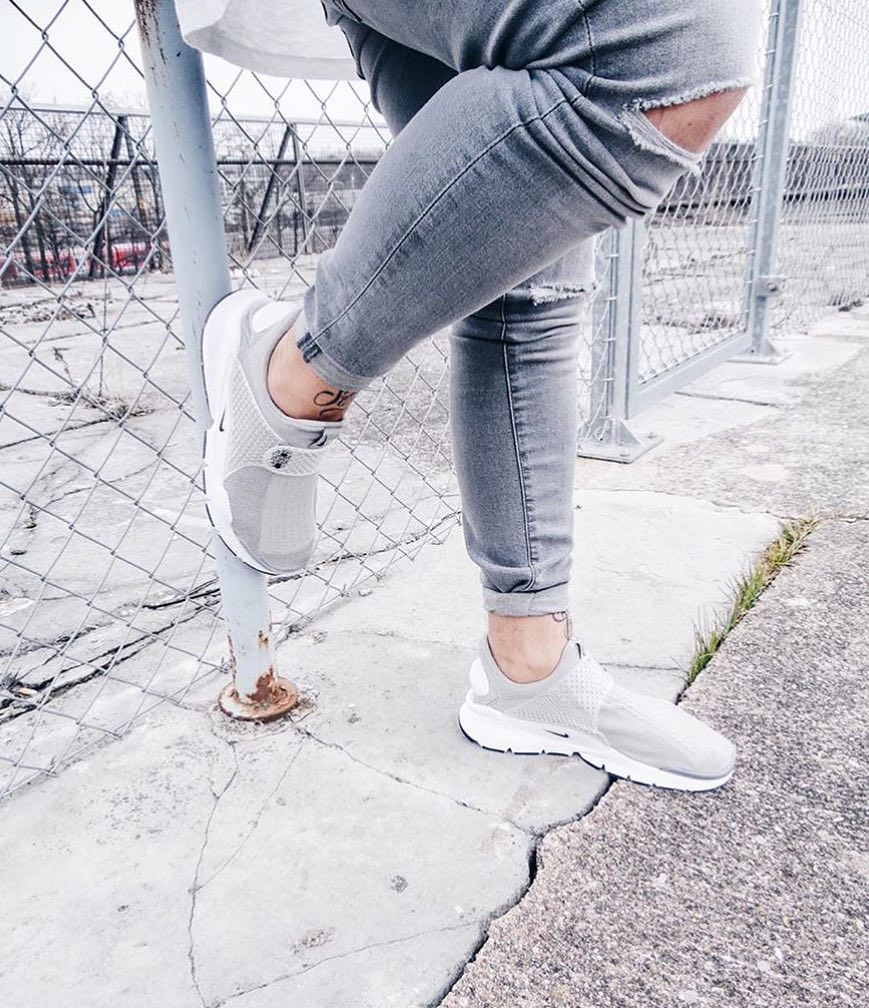sneaker: (436, 578, 758, 823), (172, 254, 378, 606)
